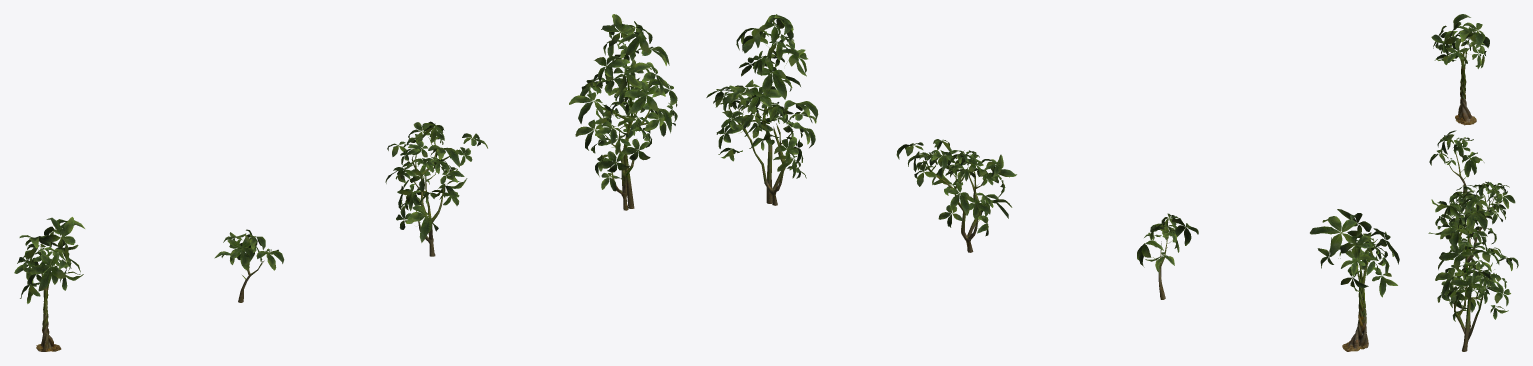
Rendered from pachira_aquatica_01.glb.
3 renders of one model, left to right at view 1: azimuth 30°, elevation 25°; view 2: azimuth 150°, elevation 25°; view 3: azimuth 270°, elevation 25°, orthographic. The views are drawn at different scales.
Visible parts, largest first — view 1: pachira_aquatica_01_leaves_d, pachira_aquatica_01_leaves_c, pachira_aquatica_01_leaves_a, pachira_aquatica_01_leaves_b, pachira_aquatica_01_bark_d, pachira_aquatica_01_bark_c, pachira_aquatica_01_bark_a; view 2: pachira_aquatica_01_leaves_d, pachira_aquatica_01_leaves_c, pachira_aquatica_01_leaves_a, pachira_aquatica_01_leaves_b, pachira_aquatica_01_bark_d, pachira_aquatica_01_bark_a, pachira_aquatica_01_bark_c; view 3: pachira_aquatica_01_leaves_d, pachira_aquatica_01_leaves_c, pachira_aquatica_01_leaves_a, pachira_aquatica_01_leaves_b, pachira_aquatica_01_bark_d, pachira_aquatica_01_bark_a, pachira_aquatica_01_bark_c, pachira_aquatica_01_bark_b.
Part boxes in pixels (x1=…): pachira_aquatica_01_leaves_d: x1=569, y1=14, x2=677, y2=191; pachira_aquatica_01_leaves_c: x1=385, y1=121, x2=487, y2=242; pachira_aquatica_01_leaves_a: x1=14, y1=217, x2=84, y2=303; pachira_aquatica_01_leaves_b: x1=214, y1=229, x2=284, y2=279; pachira_aquatica_01_bark_d: x1=595, y1=44, x2=652, y2=210; pachira_aquatica_01_bark_c: x1=409, y1=137, x2=457, y2=256; pachira_aquatica_01_bark_a: x1=36, y1=267, x2=61, y2=351; pachira_aquatica_01_leaves_d: x1=706, y1=14, x2=818, y2=178; pachira_aquatica_01_leaves_c: x1=896, y1=139, x2=1016, y2=236; pachira_aquatica_01_leaves_a: x1=1310, y1=209, x2=1399, y2=297; pachira_aquatica_01_leaves_b: x1=1137, y1=213, x2=1198, y2=274; pachira_aquatica_01_bark_d: x1=728, y1=43, x2=793, y2=205; pachira_aquatica_01_bark_a: x1=1342, y1=259, x2=1368, y2=351; pachira_aquatica_01_bark_c: x1=923, y1=159, x2=985, y2=252; pachira_aquatica_01_leaves_d: x1=1428, y1=190, x2=1518, y2=321; pachira_aquatica_01_leaves_c: x1=1431, y1=181, x2=1515, y2=244; pachira_aquatica_01_leaves_a: x1=1431, y1=14, x2=1489, y2=68; pachira_aquatica_01_leaves_b: x1=1429, y1=130, x2=1484, y2=179; pachira_aquatica_01_bark_d: x1=1454, y1=230, x2=1492, y2=351; pachira_aquatica_01_bark_a: x1=1455, y1=50, x2=1476, y2=125; pachira_aquatica_01_bark_c: x1=1453, y1=194, x2=1497, y2=268; pachira_aquatica_01_bark_b: x1=1449, y1=150, x2=1467, y2=195.
Size of the model in its own units: 6.87 by 1.9 by 0.9963.
2 materials, 2 textured.
